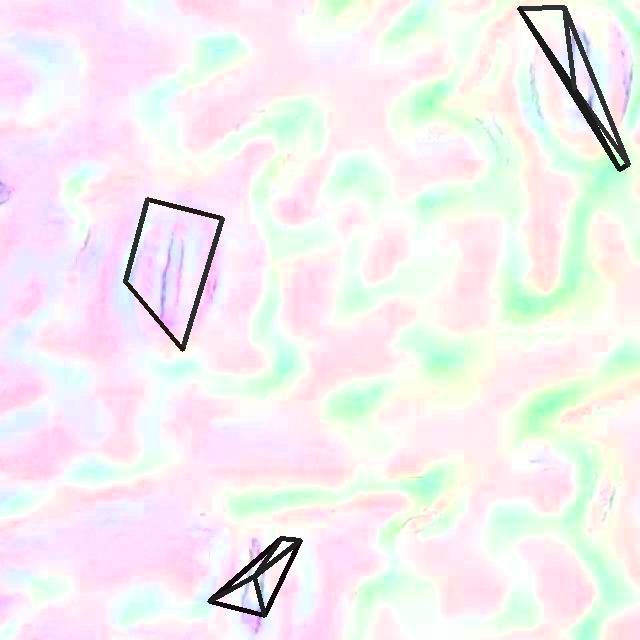open: (517, 5, 630, 171), (123, 197, 224, 351), (207, 536, 302, 617)
